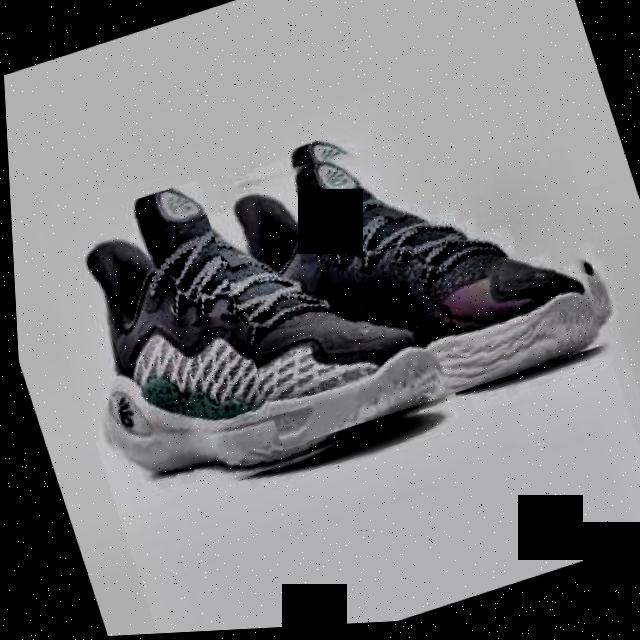shoe: (32, 125, 460, 524), (194, 86, 621, 454)
